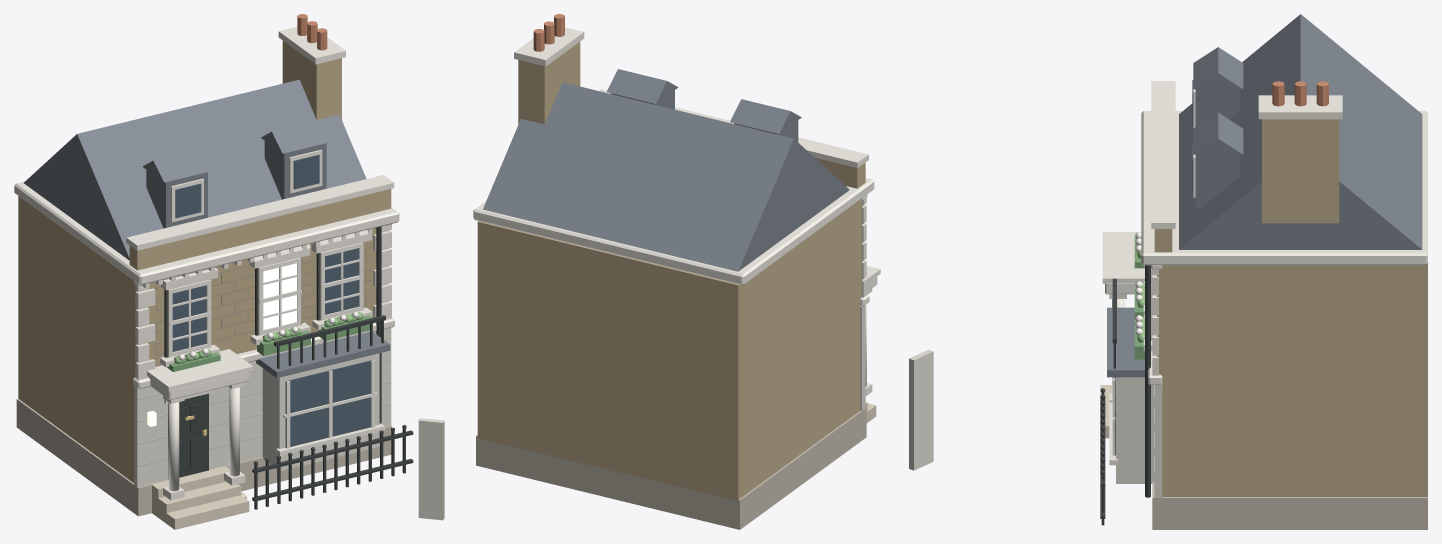
Rendered from terrace-a-2.glb.
3 views of the same model, side by side, from view 1: azimuth 30°, elevation 25°; view 2: azimuth 150°, elevation 25°; view 3: azimuth 270°, elevation 25° (orthographic). The views are drawn at different scales.
Visible parts, largest first — view 1: terrace-a-2; view 2: terrace-a-2; view 3: terrace-a-2.
Part boxes in pixels (<box>): terrace-a-2: <box>14,14,444,529</box>; terrace-a-2: <box>473,14,880,529</box>; terrace-a-2: <box>909,14,1427,529</box>.
Bounding box in the file's own units: 3.08 × 4.37 × 4.69.
